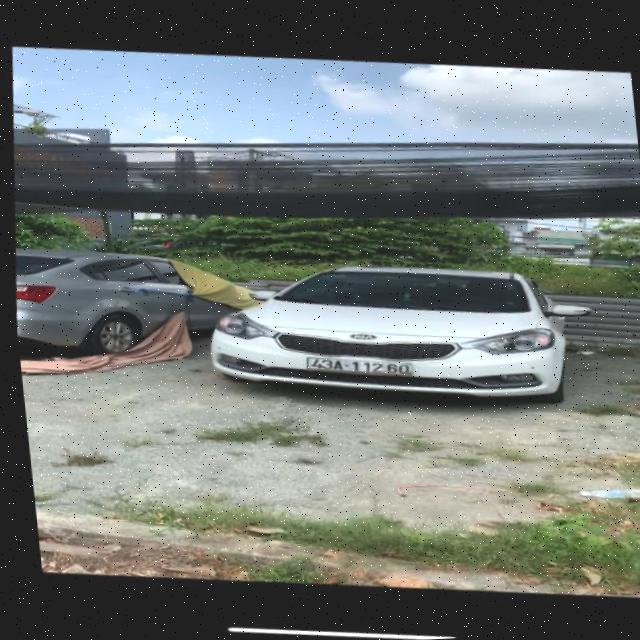car: (205, 245, 581, 419), (13, 243, 204, 383)
plate: (294, 342, 420, 389)
